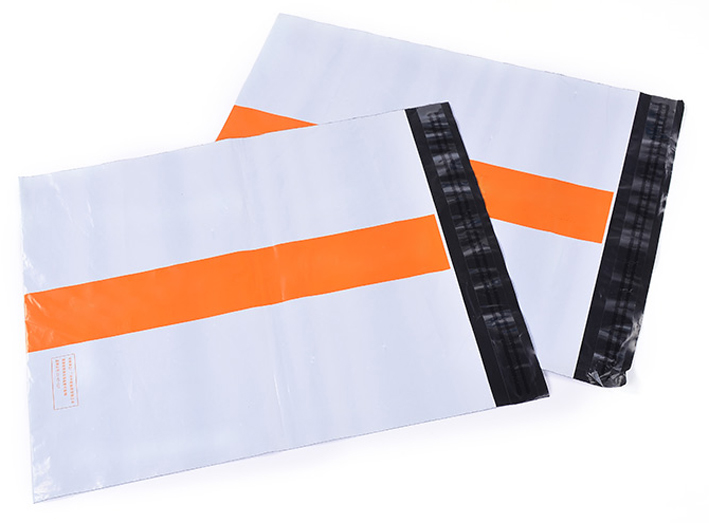Parcel: (0, 84, 612, 500), (186, 7, 689, 391)
